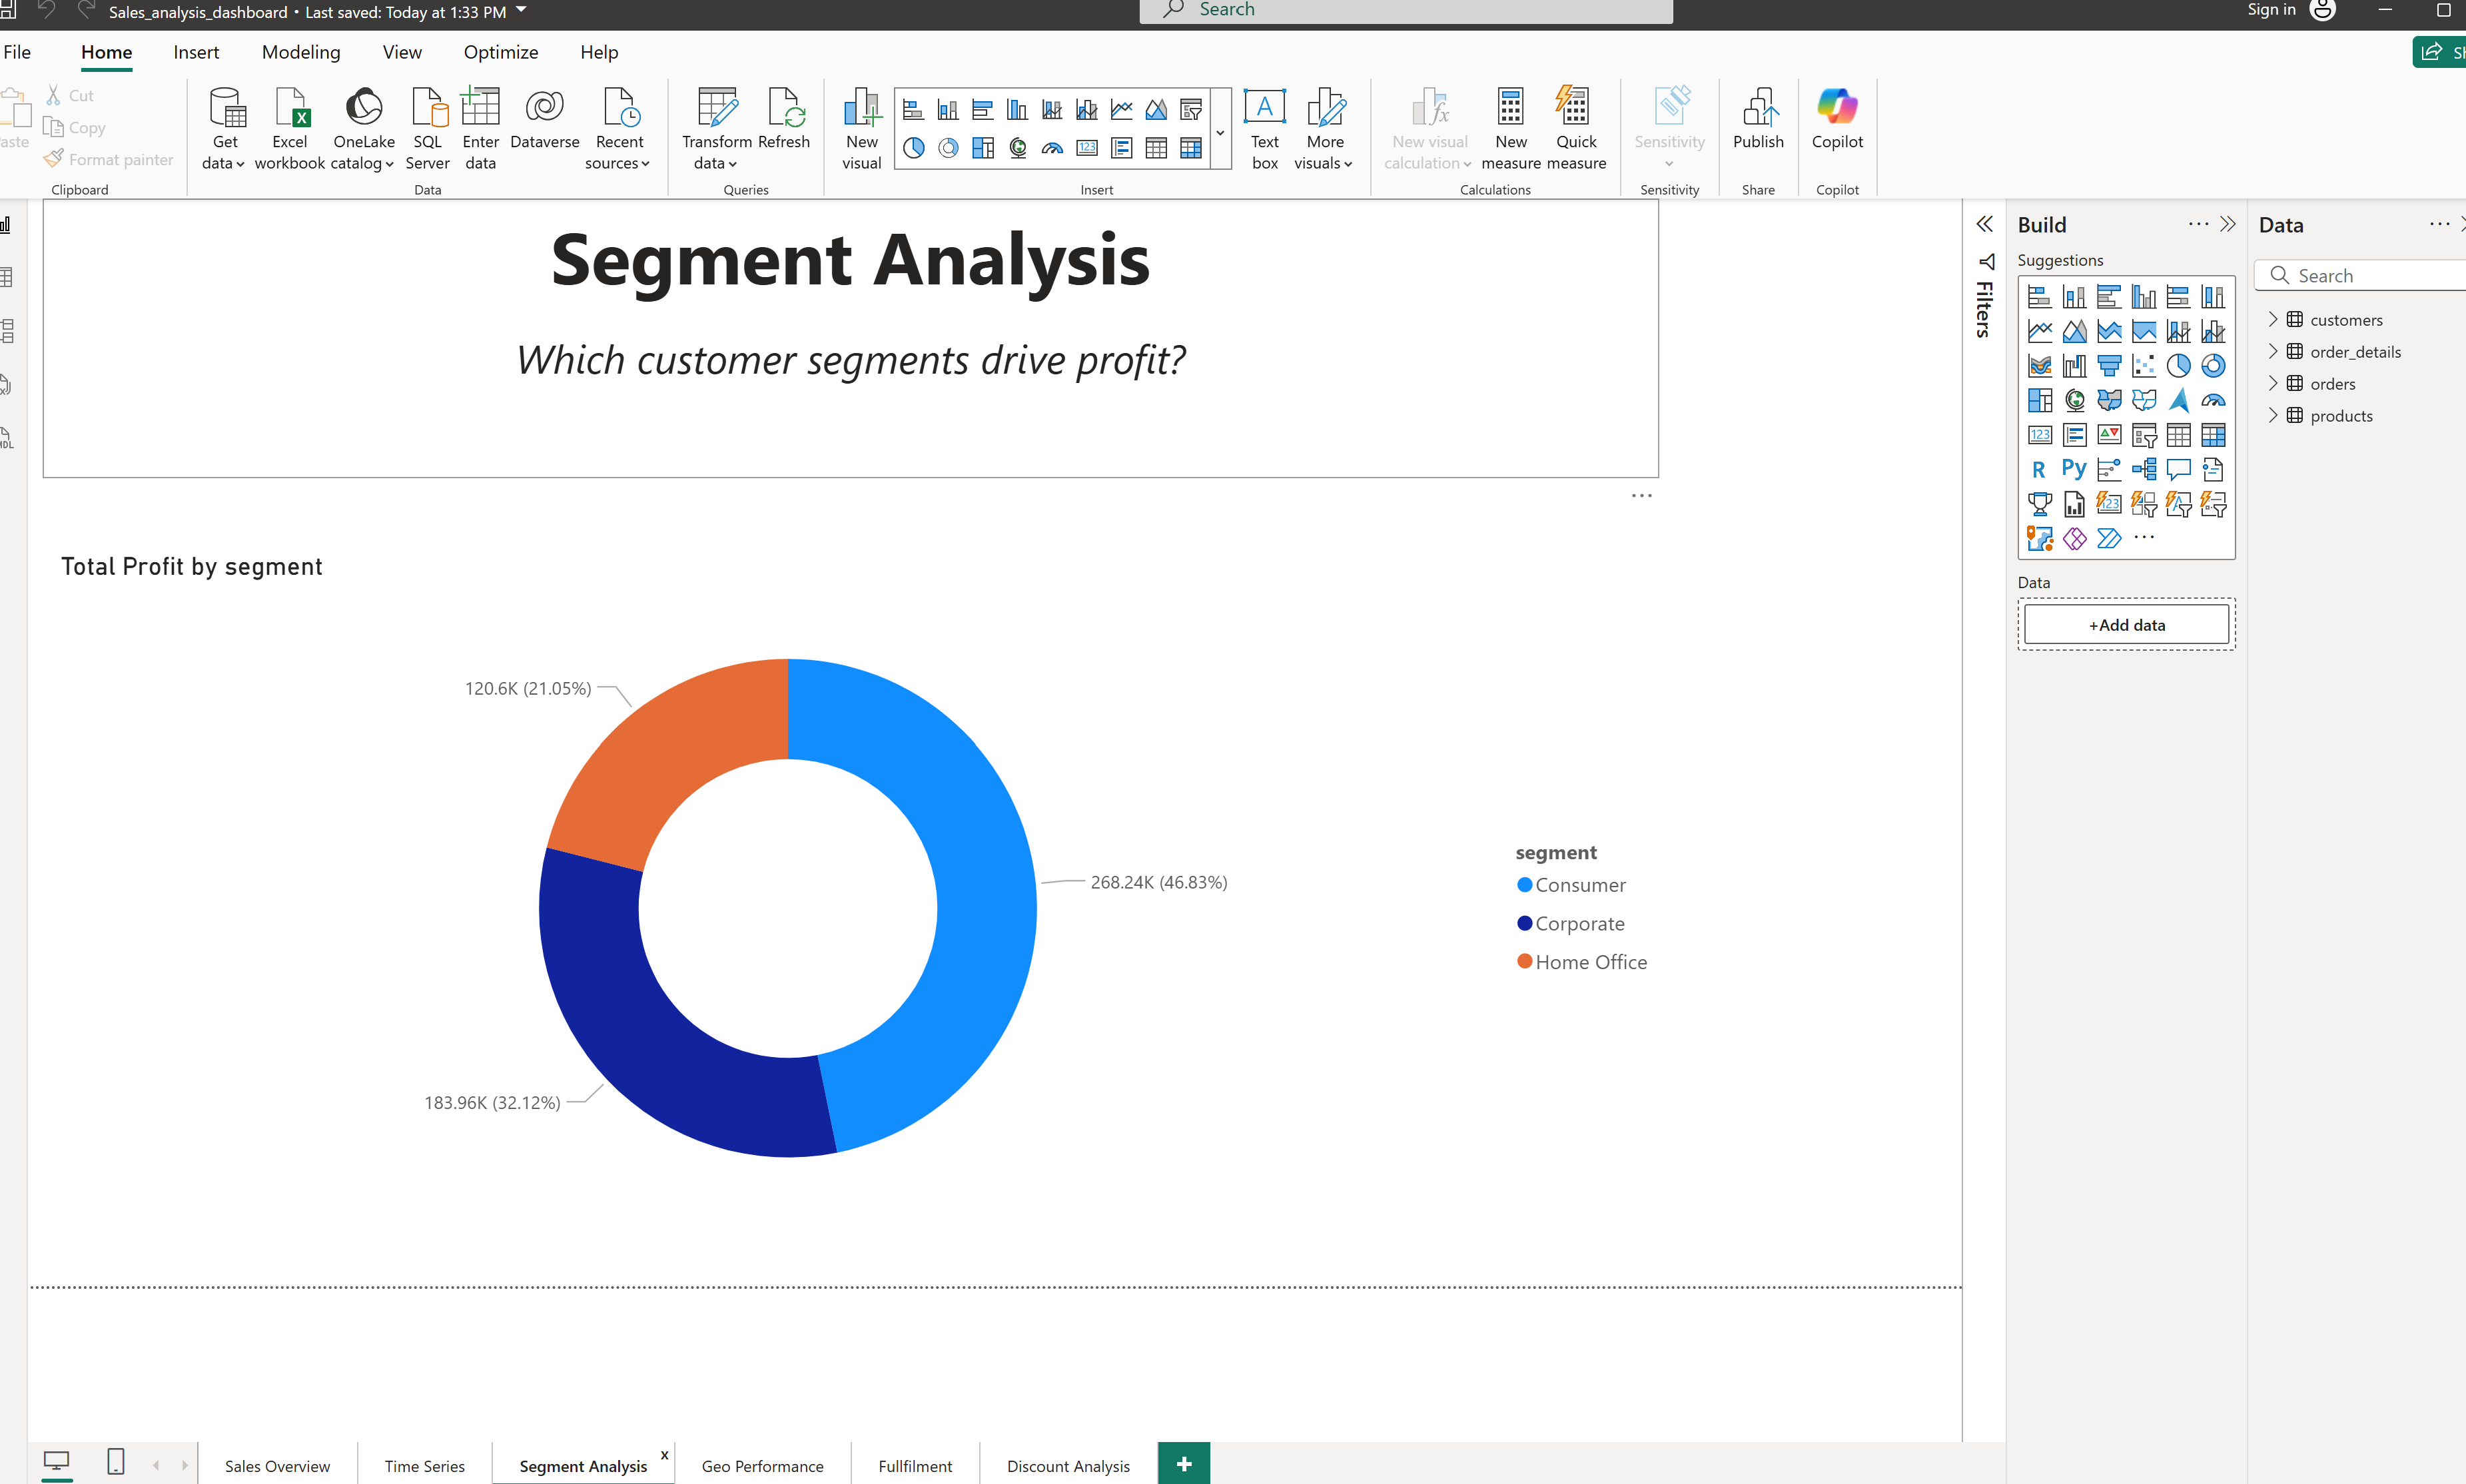

Layout of this report page (visuals, bound fields, positions):
{"tool":"powerbi","page":{"name":"Segment Analysis","canvas":[1280,720],"ordinal":2},"visuals":[{"type":"textbox","box":[10,0,1070,185],"z":0},{"type":"donutChart","fields":{"Category":["customers.segment"],"Y":["order_details.Total Profit"]},"box":[17,234,1070,453],"z":1000}]}

Visuals, with their boxes on the page's 1280x720 design canvas (x1, y1, x2, y2). These are canvas units, not pixel positions in the 2466x1484 screenshot, which may show the page scaled, cropped or inside an application window:
textbox: (10, 0, 1080, 185)
donutChart - customers.segment x order_details.Total Profit: (17, 234, 1087, 687)
